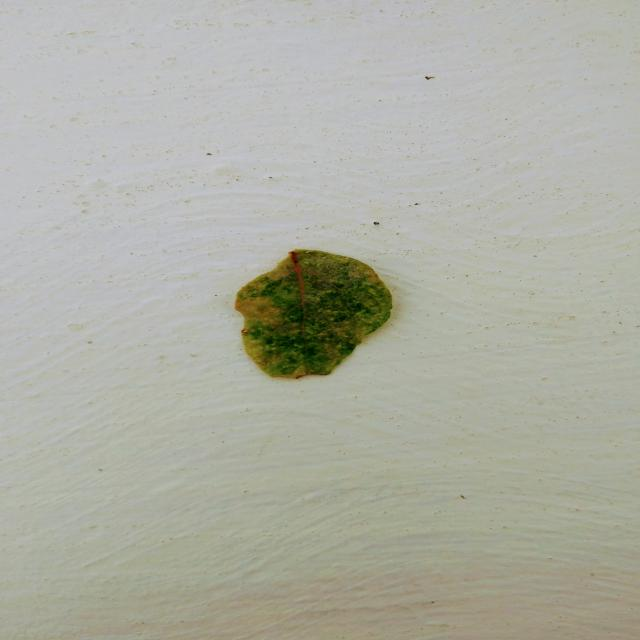leaf spot: (236, 250, 393, 379)
